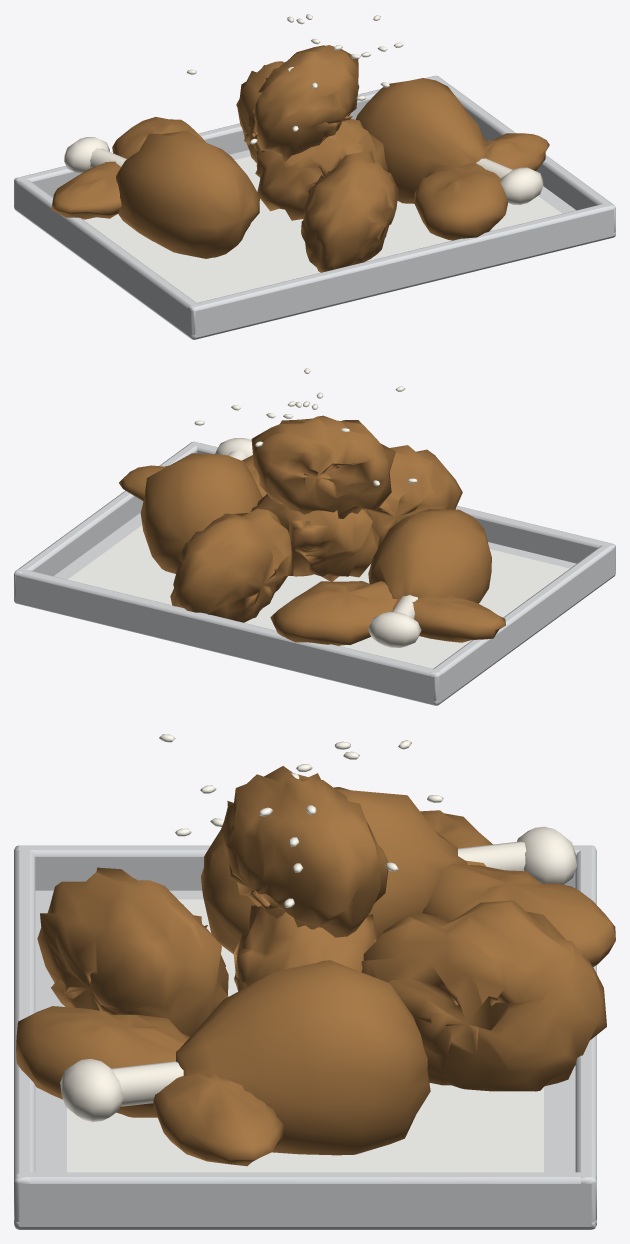
The model's file is Chicken_Ganjang.fbx.
The picture shows the model from 3 angles, top to bottom: view 1: azimuth 30°, elevation 25°; view 2: azimuth 150°, elevation 25°; view 3: azimuth 270°, elevation 25°; orthographic projection. The views are drawn at different scales.
Visible parts, largest first — view 1: Chicken_Ganjang; view 2: Chicken_Ganjang; view 3: Chicken_Ganjang.
Part boxes in pixels (x1=…): Chicken_Ganjang: x1=14, y1=14, x2=615, y2=339; Chicken_Ganjang: x1=14, y1=368, x2=615, y2=705; Chicken_Ganjang: x1=14, y1=734, x2=615, y2=1229.
Bounding box in the file's own units: 0.3093 × 0.1368 × 0.2272.
